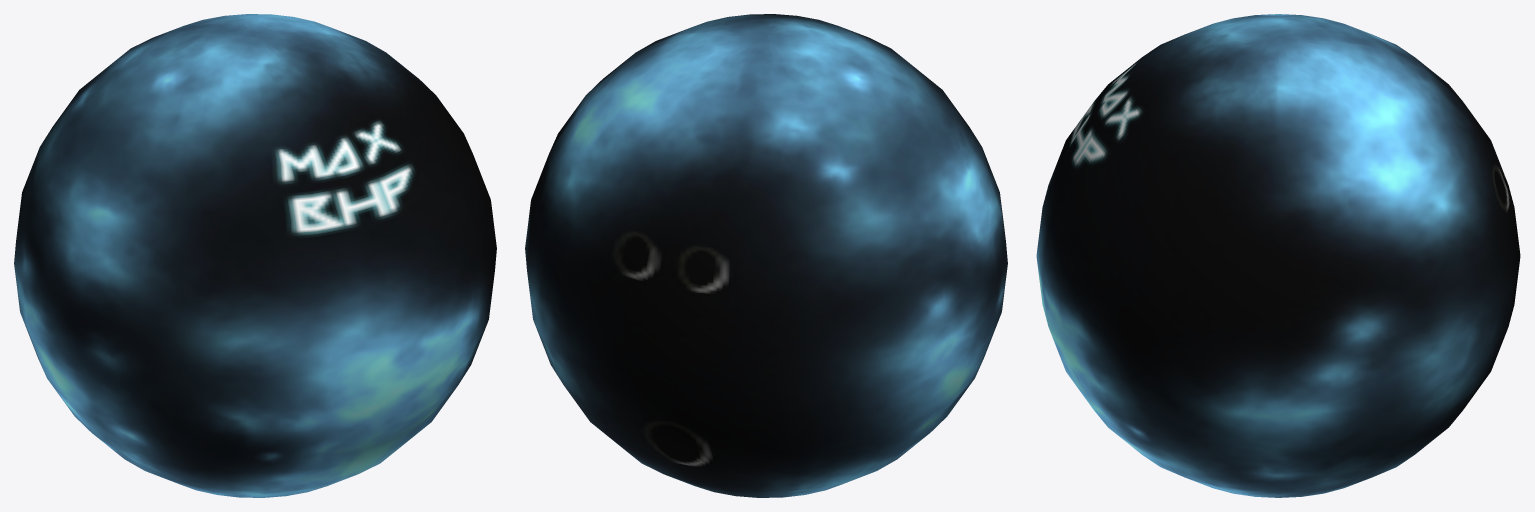
The model's file is Ball06.fbx.
The picture shows the model from 3 angles, left to right: view 1: azimuth 30°, elevation 25°; view 2: azimuth 150°, elevation 25°; view 3: azimuth 270°, elevation 25°; orthographic projection.
Parts seen in each view (by area): view 1: Empty_Mesh; view 2: Empty_Mesh; view 3: Empty_Mesh.
Part boxes in pixels (bbox=[...]): Empty_Mesh: bbox=[14, 14, 496, 497]; Empty_Mesh: bbox=[525, 14, 1007, 497]; Empty_Mesh: bbox=[1036, 14, 1520, 497].
Bounding box in the file's own units: 0.2266 × 0.2266 × 0.2266.
